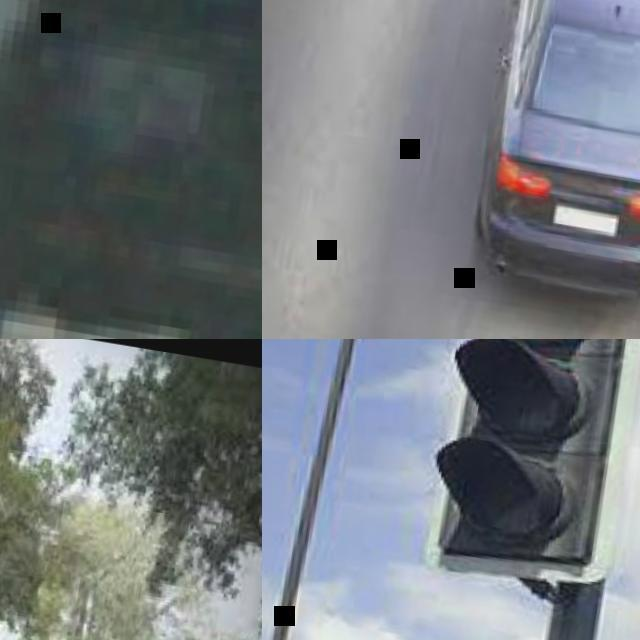car: (472, 0, 639, 296)
